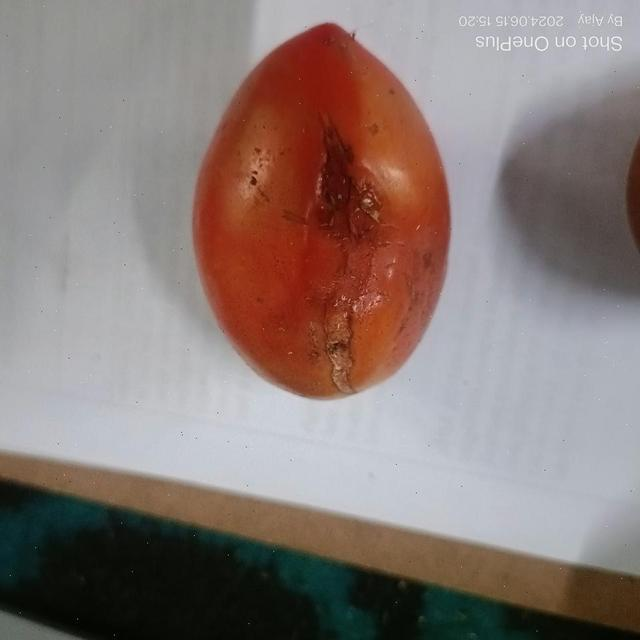Cracking Fruit: (109, 126, 327, 382)
